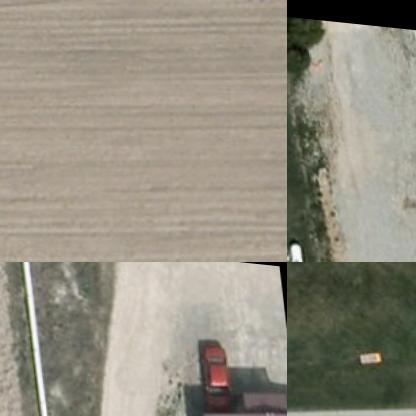car: (198, 335, 235, 408)
